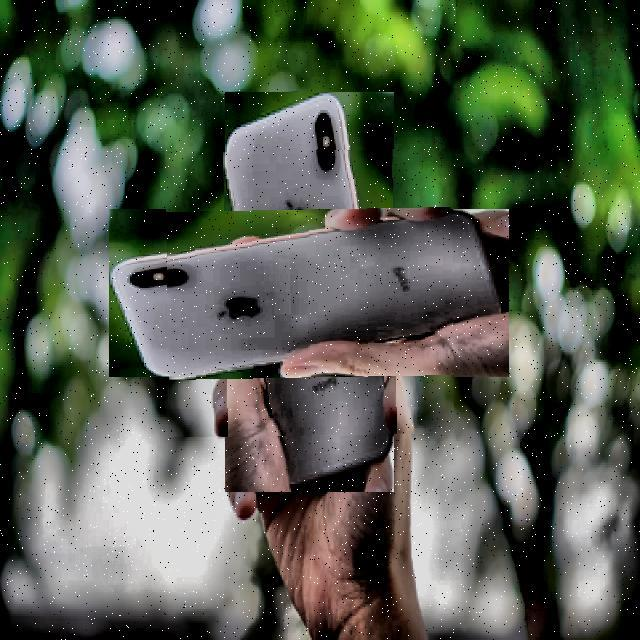Phone: (166, 149, 453, 436)
